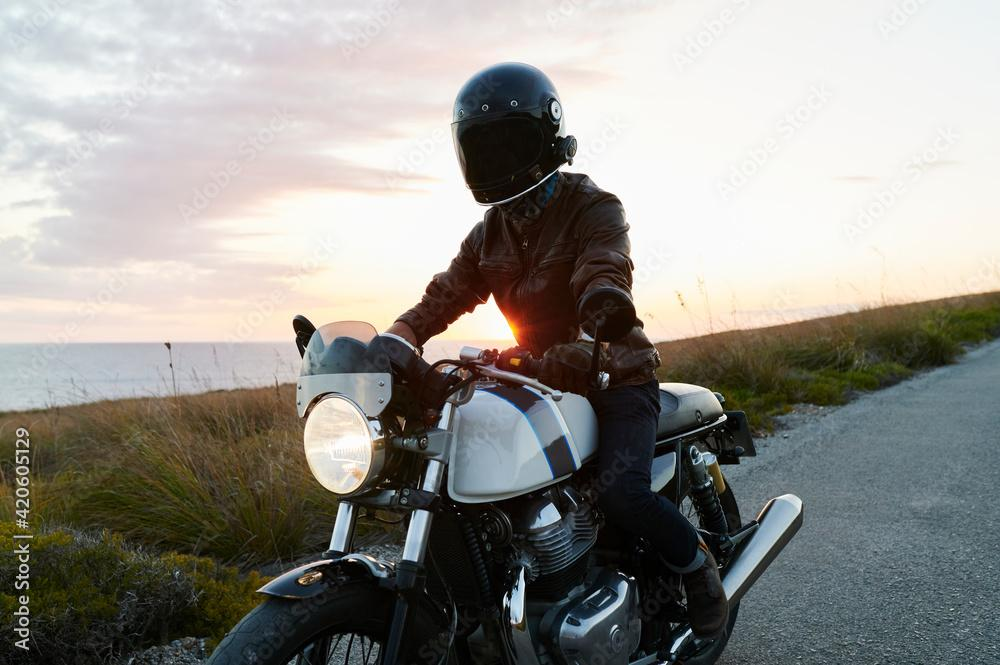helmet: (450, 61, 578, 207)
